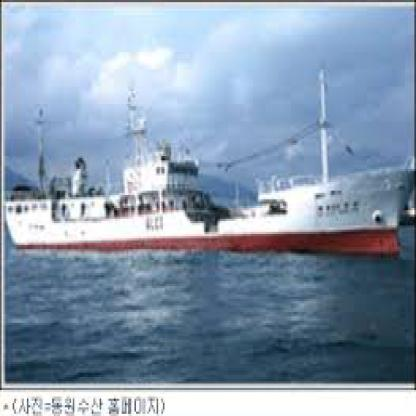fish-b: (0, 73, 415, 265)
